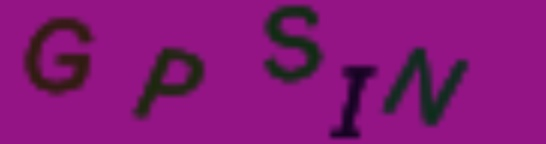G: (20, 13, 93, 96)
I: (325, 63, 381, 143)
N: (382, 43, 471, 127)
P: (129, 44, 206, 122)
S: (262, 3, 324, 86)
